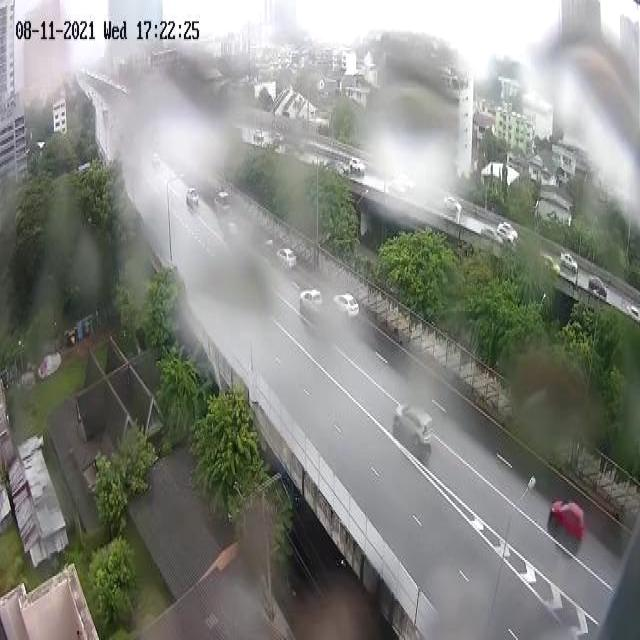Car: (385, 384, 447, 481), (542, 483, 592, 551), (294, 289, 334, 336), (331, 291, 367, 328), (584, 266, 620, 301), (545, 250, 581, 280), (218, 157, 236, 216), (280, 226, 300, 279), (346, 154, 369, 192), (186, 175, 198, 226)
